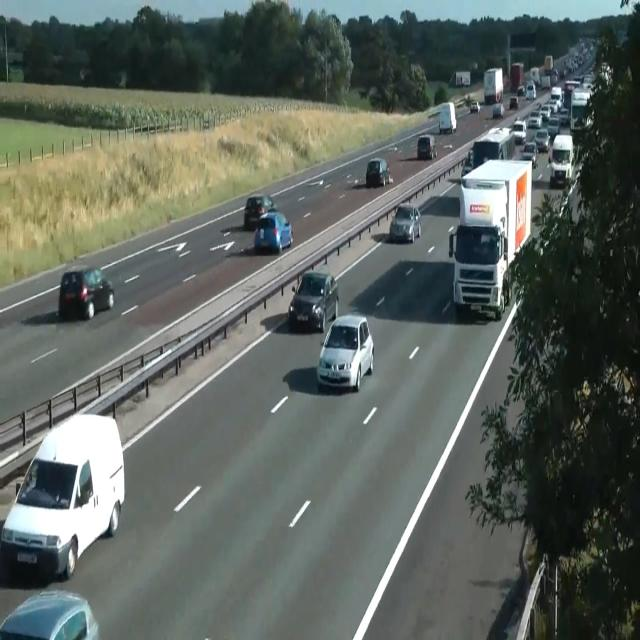bus: (0, 588, 100, 639), (58, 266, 114, 321), (389, 202, 421, 242), (244, 194, 278, 229), (366, 158, 392, 188), (417, 134, 437, 160), (547, 119, 559, 141), (461, 162, 473, 178), (528, 115, 542, 128), (492, 103, 504, 118), (470, 99, 480, 113), (509, 96, 519, 109), (517, 84, 525, 97)
jeep: (1, 410, 125, 580), (316, 313, 374, 392), (288, 270, 338, 332), (253, 210, 293, 252), (548, 133, 574, 184), (519, 141, 537, 168), (512, 118, 526, 144)
minibus: (448, 157, 532, 320), (469, 126, 515, 170), (570, 86, 594, 134), (484, 67, 504, 104), (438, 102, 456, 134), (564, 79, 580, 109), (510, 62, 524, 92), (455, 71, 471, 86), (530, 67, 542, 87), (544, 55, 554, 73)
